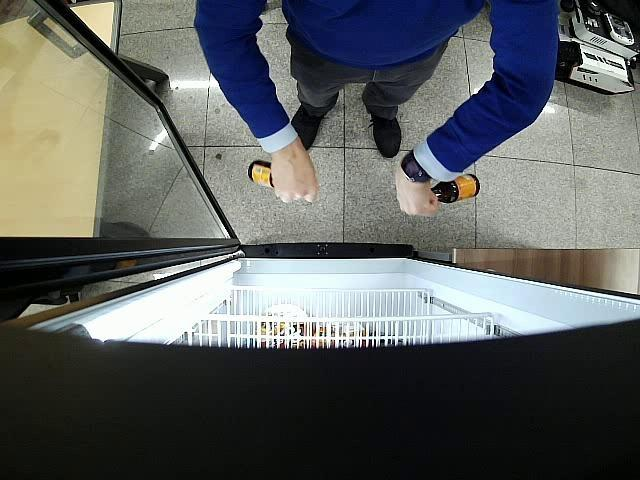17_vita500: (432, 174, 480, 204), (248, 160, 274, 189)
